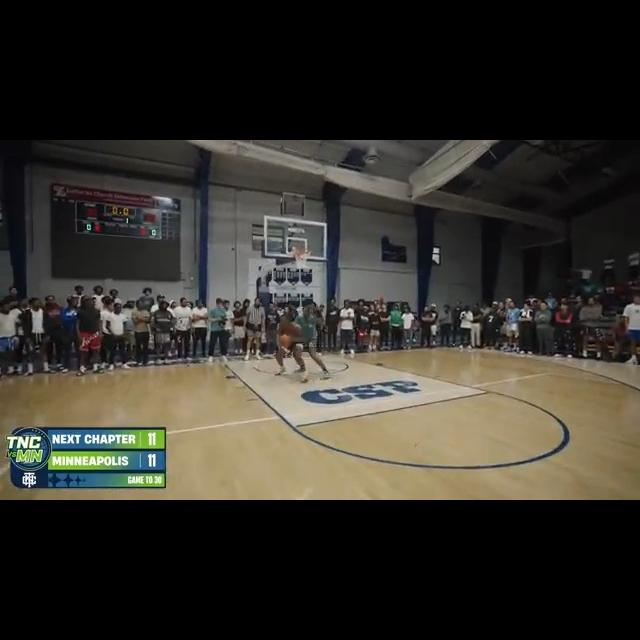basketball: (278, 332, 292, 348)
hoop: (293, 247, 311, 270)
